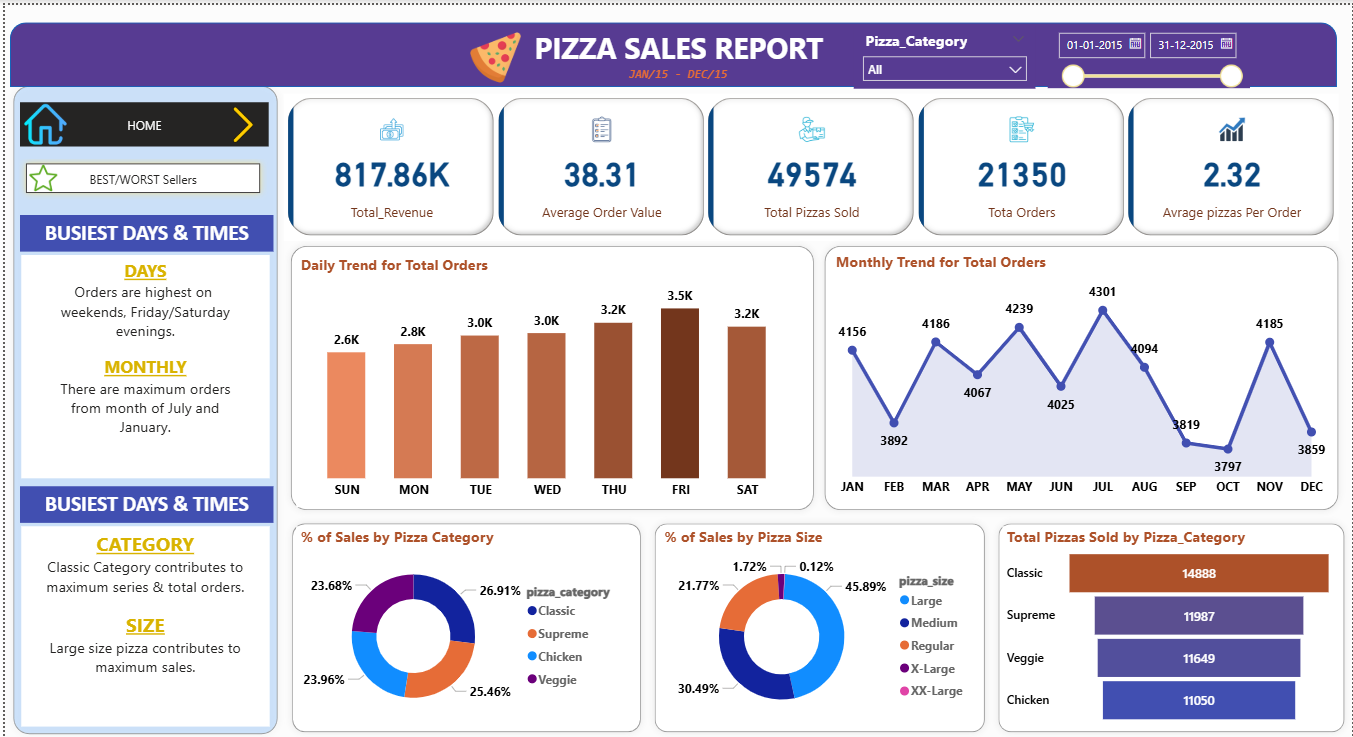

What the dashboard file says about the page in this screenshot:
{"tool":"powerbi","page":{"name":"HOME","canvas":[1500,820],"ordinal":0},"visuals":[{"type":"shape","box":[1.5,81.8,310.3,738.2],"z":0},{"type":"cardVisual","fields":{"Data":["pizza_sales.Total_Revenue","pizza_sales.Average Order Value","pizza_sales.Total Pizzas Sold","pizza_sales.Tota Orders","pizza_sales.Avrage pizzas Per Order"]},"box":[310,98.8,1175,163.8],"z":1000},{"type":"shape","box":[6,20,1478.3,72],"z":2000},{"type":"textbox","box":[565.4,20.5,370.5,57.7],"z":3000},{"type":"textbox","box":[666.7,62.8,165.4,29.5],"z":4000},{"type":"image","box":[512.8,23.1,67.9,69.2],"z":5000},{"type":"shape","box":[311.8,569.1,404.4,248.5],"z":6000},{"type":"shape","box":[905.9,260.3,588.2,310.3],"z":7000},{"type":"areaChart","title":"Monthly Trend for Total Orders","fields":{"Category":["pizza_sales.Order Month"],"Y":["CountNonNull(pizza_sales.Month Name)"]},"box":[920.6,275,558.8,282.4],"z":8000},{"type":"shape","box":[716.2,569.1,383.8,248.5],"z":9000},{"type":"shape","box":[1098.5,569.1,401.5,248.5],"z":10000},{"type":"donutChart","title":"% of Sales by Pizza Category","fields":{"Category":["pizza_sales.pizza_category"],"Y":["pizza_sales.Total_Revenue"]},"box":[325,580.9,376.5,223.5],"z":11000},{"type":"donutChart","title":"% of Sales by Pizza Size","fields":{"Y":["pizza_sales.Total_Revenue"],"Category":["pizza_sales.pizza_size"]},"box":[729.4,580.9,354.4,225],"z":12000},{"type":"funnel","title":"Total Pizzas Sold by Pizza_Category","fields":{"Category":["pizza_sales.pizza_category"],"Y":["pizza_sales.Total Pizzas Sold"]},"box":[1111.8,580.9,373.5,225],"z":13000},{"type":"shape","box":[310.3,260.3,598.5,310.3],"z":14000},{"type":"columnChart","title":"Daily Trend for Total Orders","fields":{"Category":["pizza_sales.Order Day"],"Y":["pizza_sales.Tota Orders"]},"box":[325,276.5,560.3,282.4],"z":15000},{"type":"textbox","box":[16.2,233.8,282.4,41.2],"z":16000},{"type":"textbox","box":[16.2,536.8,282.4,41.2],"z":17000},{"type":"textbox","box":[17.6,277.9,276.5,248.5],"z":18000},{"type":"textbox","box":[17.6,580.9,276.5,223.5],"z":19000},{"type":"slicer","fields":{"Values":["pizza_sales.pizza_category"]},"box":[946.2,23.1,202.6,69.2],"z":20000},{"type":"slicer","fields":{"Values":["pizza_sales.order_date"]},"box":[1161.5,21.8,225.6,70.5],"z":21000},{"type":"pageNavigator","box":[16.2,108.8,277.9,50],"z":22000},{"type":"pageNavigator","box":[14.7,169.1,277.9,50],"z":23000},{"type":"image","box":[238.2,108.8,54.4,50],"z":24000},{"type":"image","box":[16.2,104.4,57.4,57.4],"z":25000},{"type":"image","box":[22.1,170.6,41.2,45.6],"z":26000}]}

Visuals, with their boxes in screenshot pixels (x1, y1, x2, y2), scaled from the page's 1500x820 canvas onto the 1353x737 screenshot:
shape: Rect(1, 74, 281, 736)
cardVisual - pizza_sales.Total_Revenue x pizza_sales.Average Order Value: Rect(280, 89, 1339, 236)
shape: Rect(5, 18, 1339, 83)
textbox: Rect(510, 18, 844, 70)
textbox: Rect(601, 56, 751, 83)
image: Rect(463, 21, 524, 83)
shape: Rect(281, 511, 646, 735)
shape: Rect(817, 234, 1348, 513)
"Monthly Trend for Total Orders" areaChart: Rect(830, 247, 1334, 501)
shape: Rect(646, 511, 992, 735)
shape: Rect(991, 511, 1352, 735)
"% of Sales by Pizza Category" donutChart: Rect(293, 522, 633, 723)
"% of Sales by Pizza Size" donutChart: Rect(658, 522, 978, 724)
"Total Pizzas Sold by Pizza_Category" funnel: Rect(1003, 522, 1340, 724)
shape: Rect(280, 234, 820, 513)
"Daily Trend for Total Orders" columnChart: Rect(293, 249, 799, 502)
textbox: Rect(15, 210, 269, 247)
textbox: Rect(15, 482, 269, 519)
textbox: Rect(16, 250, 265, 473)
textbox: Rect(16, 522, 265, 723)
slicer - pizza_sales.pizza_category: Rect(853, 21, 1036, 83)
slicer - pizza_sales.order_date: Rect(1048, 20, 1251, 83)
pageNavigator: Rect(15, 98, 265, 143)
pageNavigator: Rect(13, 152, 264, 197)
image: Rect(215, 98, 264, 143)
image: Rect(15, 94, 66, 145)
image: Rect(20, 153, 57, 194)
